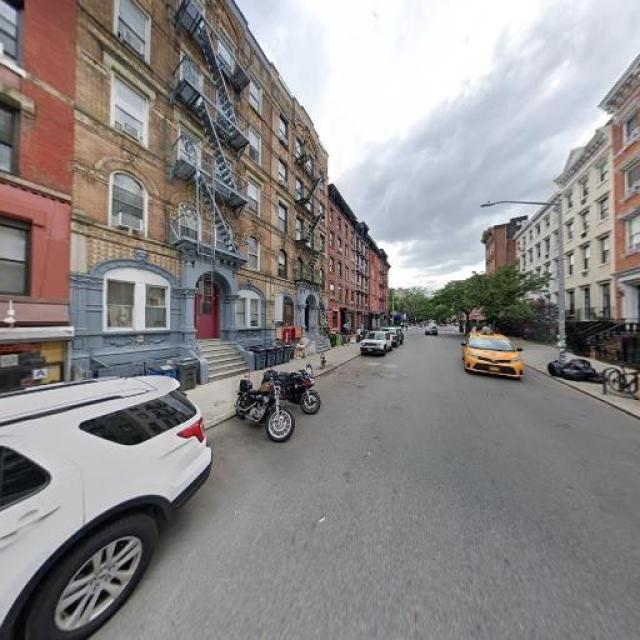Building: (74, 1, 268, 384), (1, 1, 68, 399), (270, 68, 323, 348), (628, 65, 640, 358)
